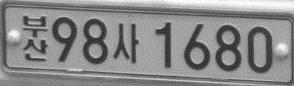0: (246, 25, 273, 74)
1: (151, 22, 180, 69)
6: (183, 23, 210, 71)
8: (81, 17, 108, 65), (214, 24, 241, 72)
9: (51, 15, 77, 63)
부산_V: (21, 14, 48, 62)
사: (112, 22, 139, 64)
